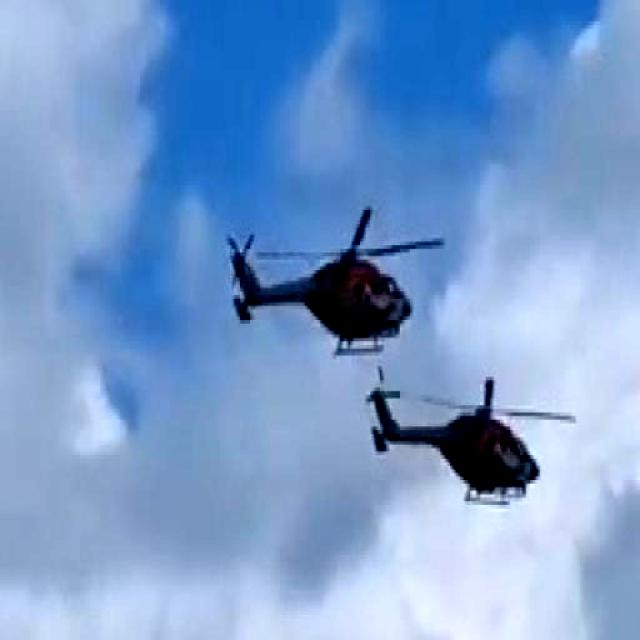drone: (225, 209, 454, 358), (365, 372, 576, 512)
